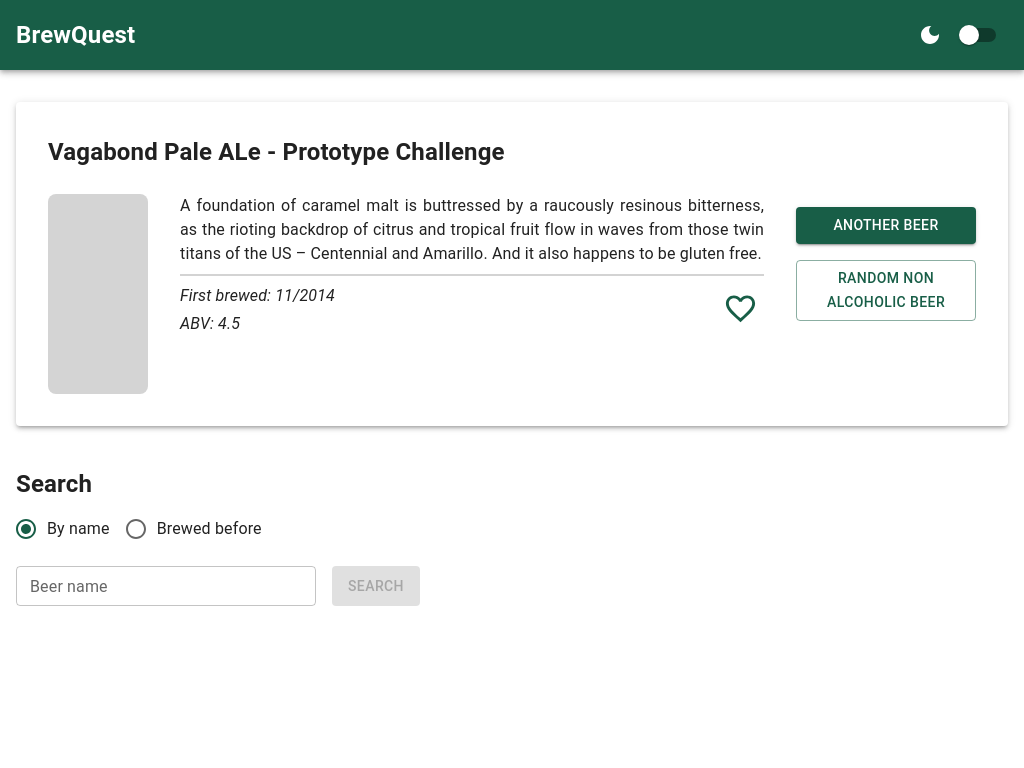
Scenario: When navigating to the home page › And the user clicks on the `Random non alcoholic Beer` button › Then it should show the name of the random non alcoholic beer returned by the API
The width and height of the screenshot is (1024, 768).
Click the button "Random non alcoholic Beer". click: (886, 291)
box: [796,260,976,321]
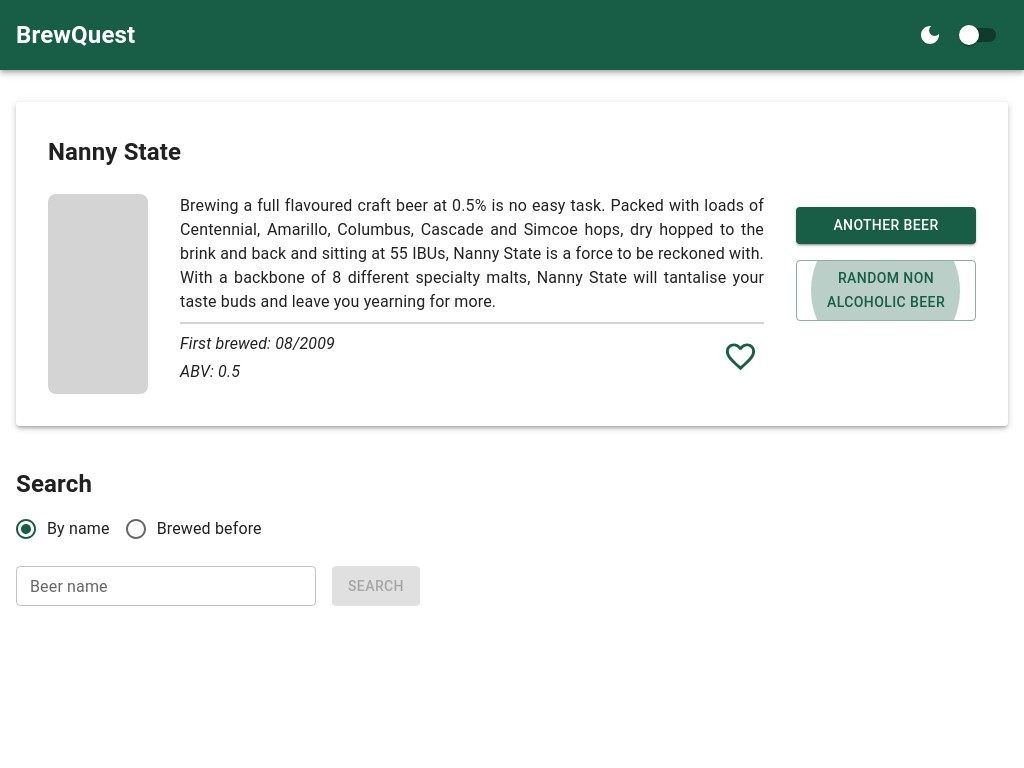
expect the heading with class "beer__name" reads "Nanny State": met, box [48,138,181,166]
